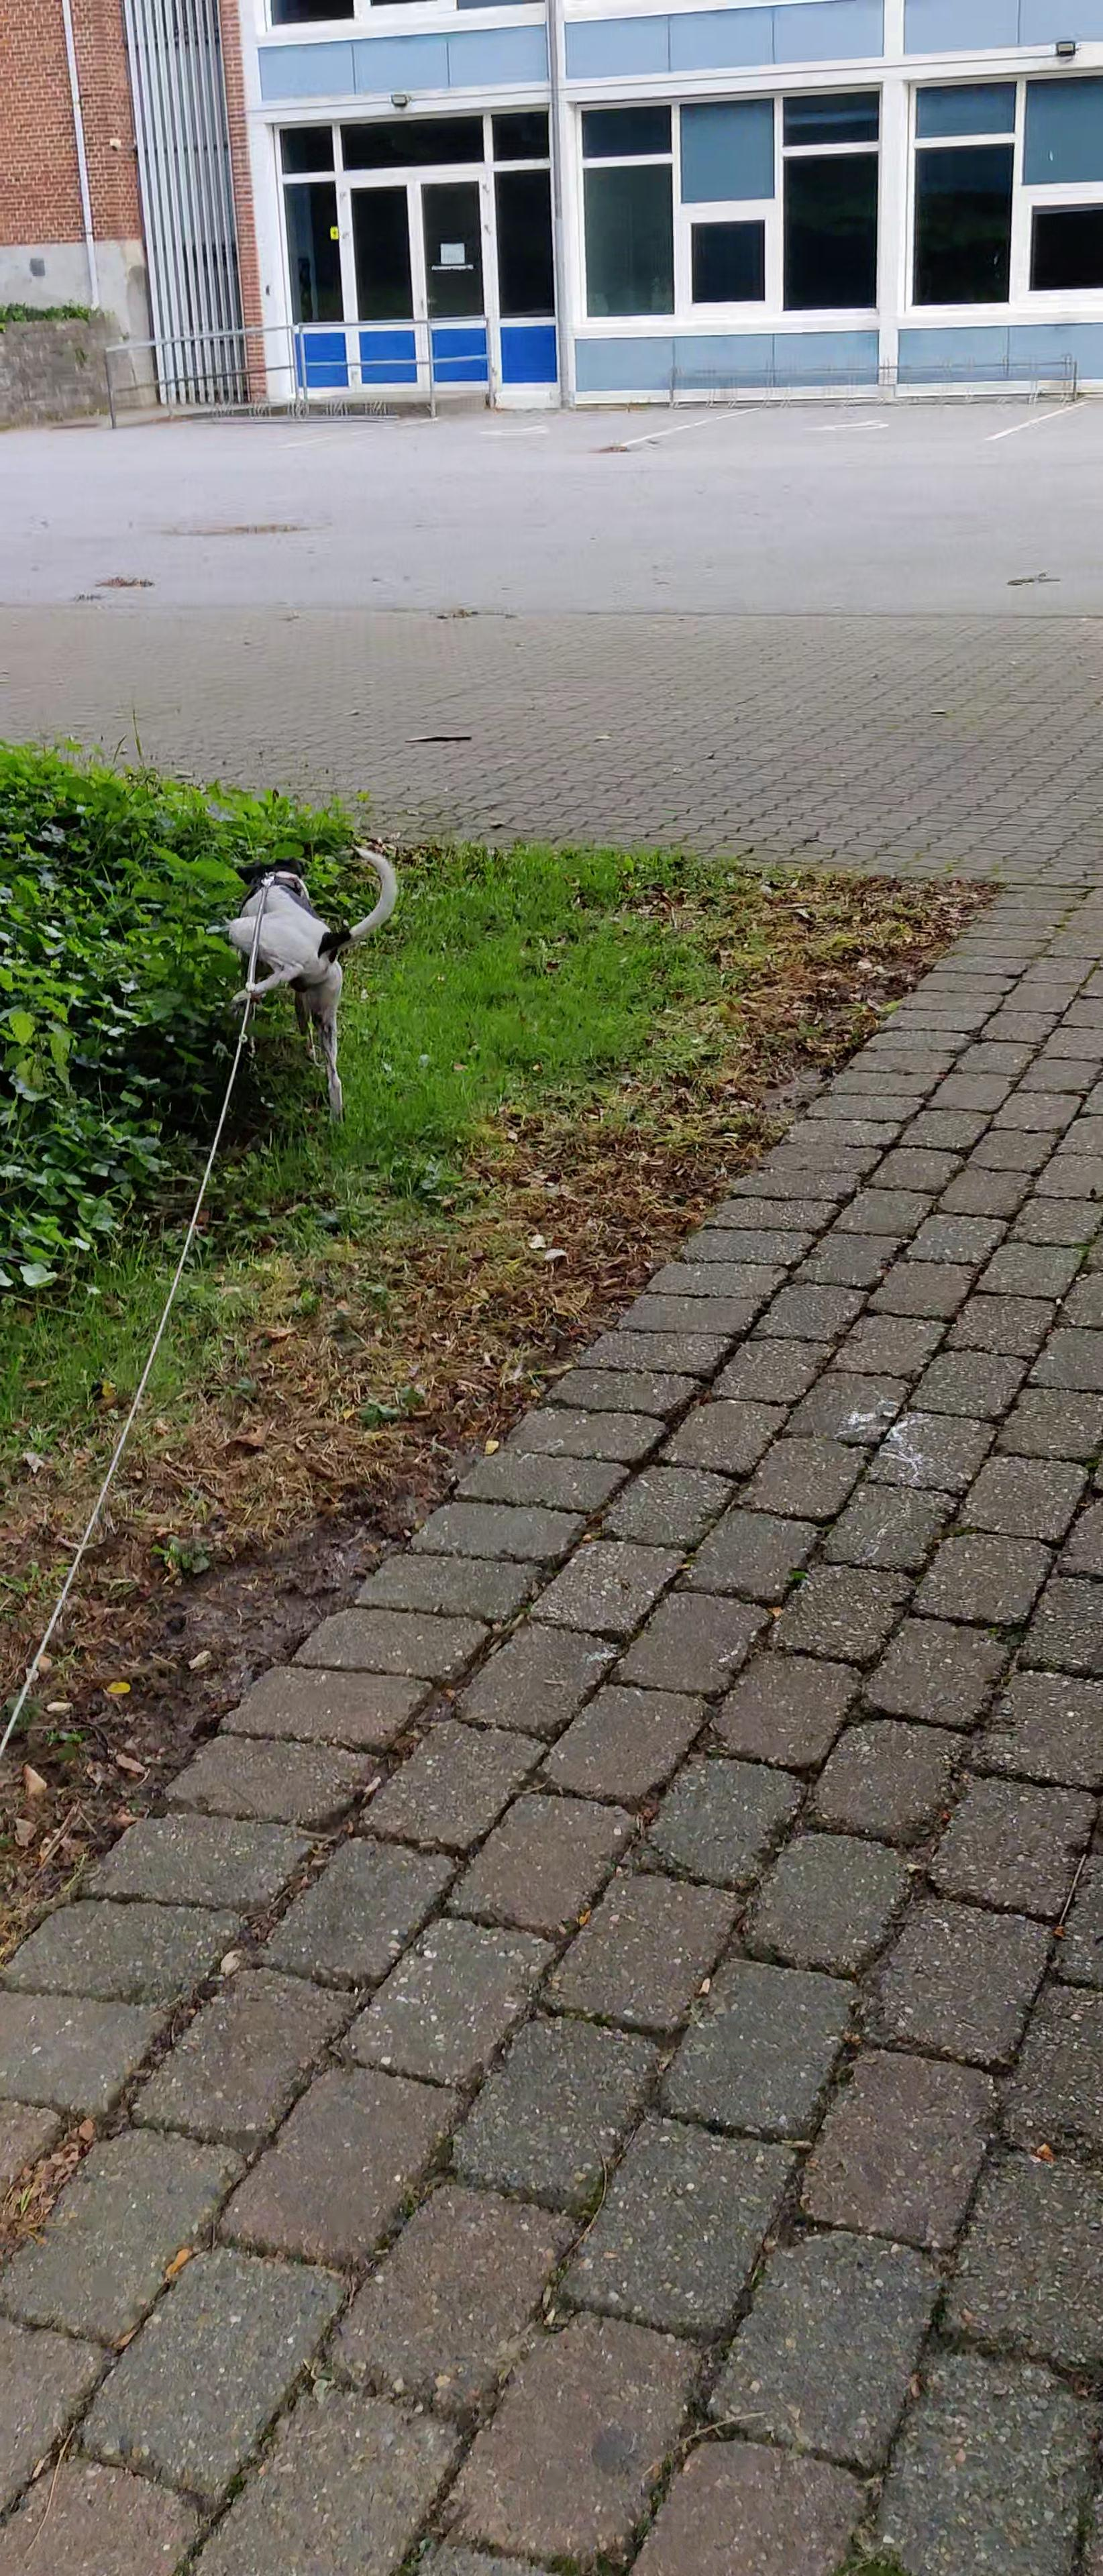Dog: (197, 825, 406, 1125)
